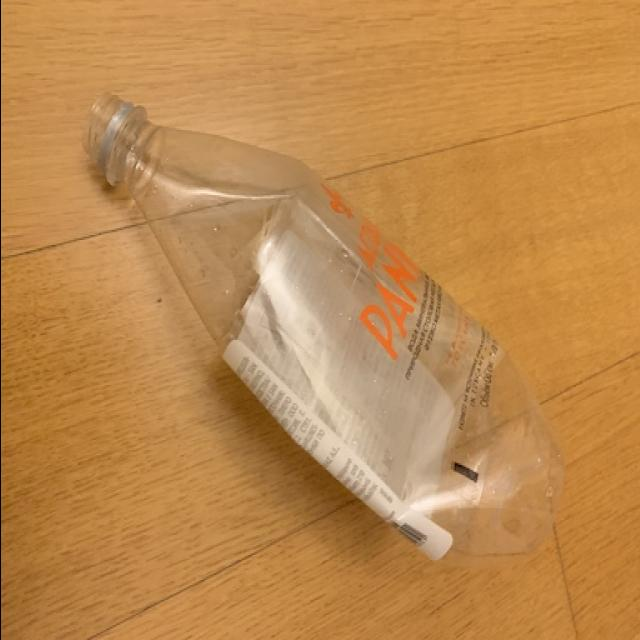PET: (72, 79, 570, 578)
